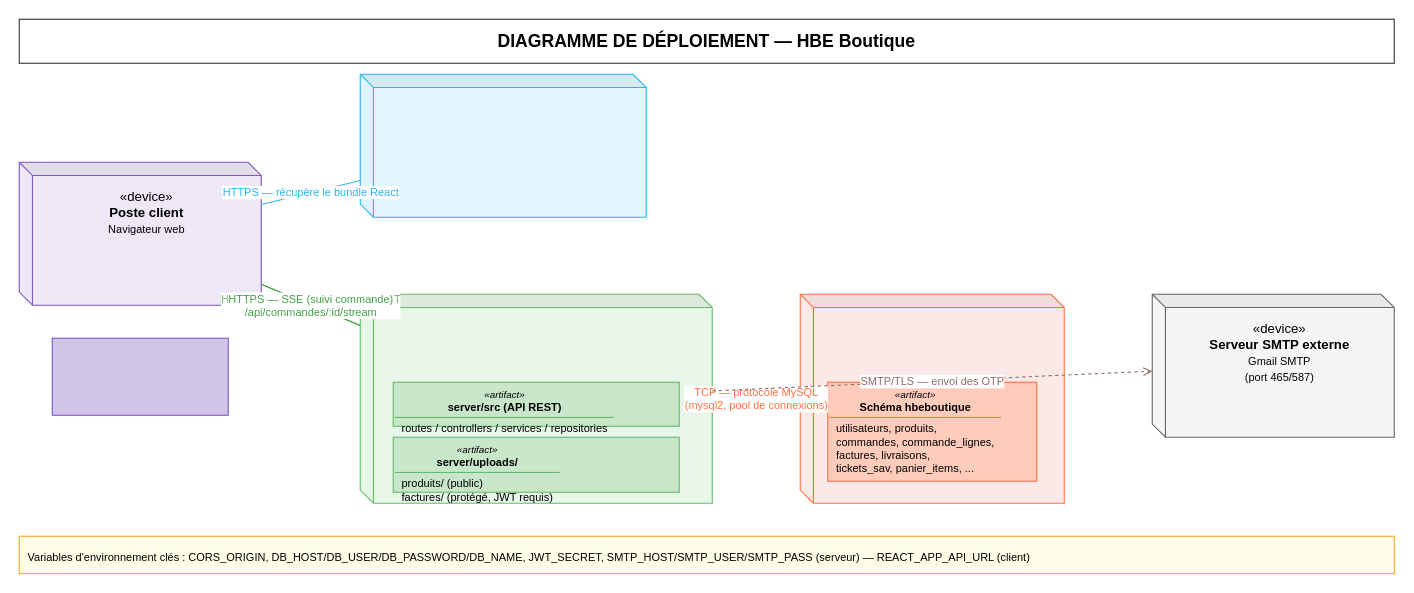
This 1414x593 diagram has some shape labels left out. The box of each missing label's shape, as (x1, y1, x2, y2) in pixels:
«artifact» build/ (React SPA) index.html, JS/CSS bundlés servis en HTTPS: (51, 337, 228, 415)
«device» Hébergement statique CDN / hébergeur front (Vercel, Netlify, Nginx...): (359, 73, 646, 217)
«device» Serveur d'application Node.js >= 18 — Express Port 5000 (HTTP/JSON): (359, 293, 712, 503)
«device» Serveur de base de données MySQL 8 Port 3306: (799, 293, 1064, 503)
